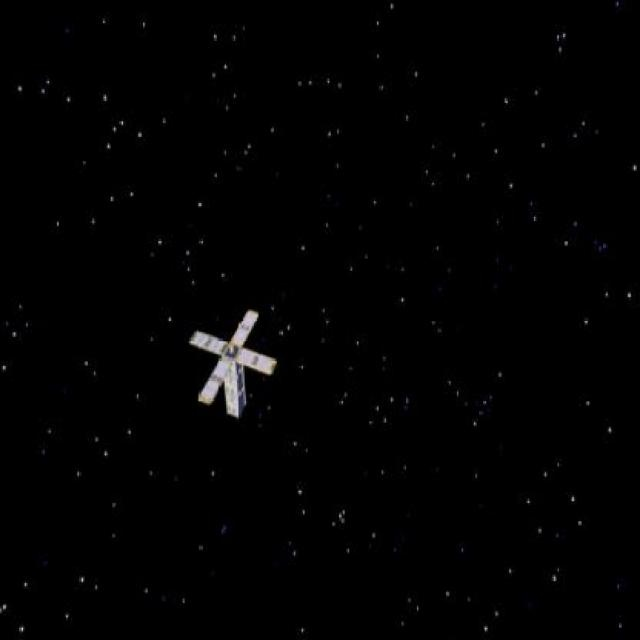medium_debris: (174, 298, 274, 419)
